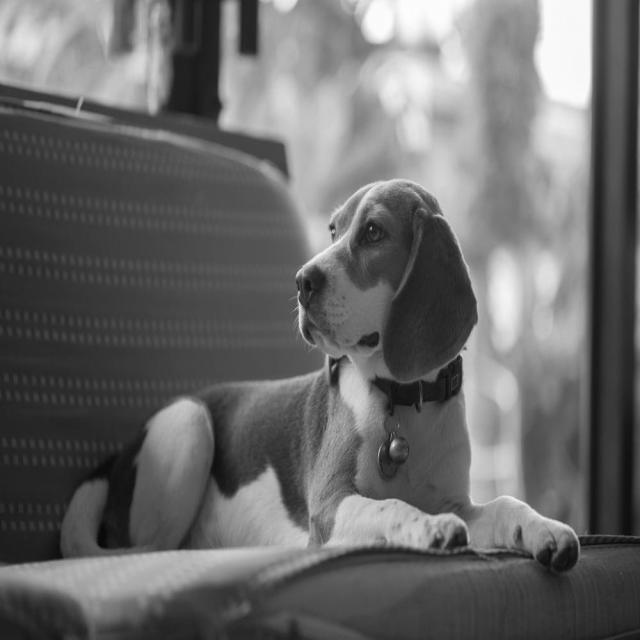laying down: (57, 173, 584, 575)
